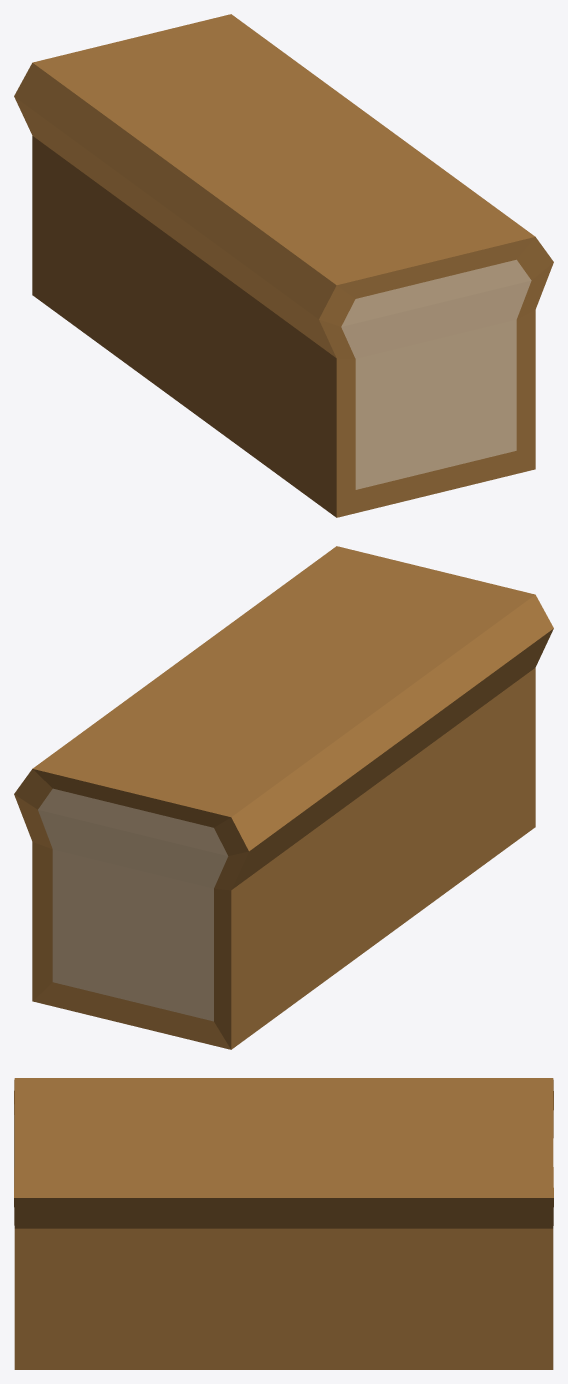
The model's file is food-bread-toast.glb.
3 views of the same model, one above another, from view 1: azimuth 30°, elevation 25°; view 2: azimuth 150°, elevation 25°; view 3: azimuth 270°, elevation 25° (orthographic). The views are drawn at different scales.
Visible parts, largest first — view 1: bread-toast; view 2: bread-toast; view 3: bread-toast.
Part boxes in pixels (left/top/right/bottom): bread-toast: left=14, top=14, right=553, bottom=517; bread-toast: left=14, top=546, right=553, bottom=1049; bread-toast: left=14, top=1078, right=553, bottom=1369.
Size of the model in its own units: 0.1326 by 0.1254 by 0.2979.
